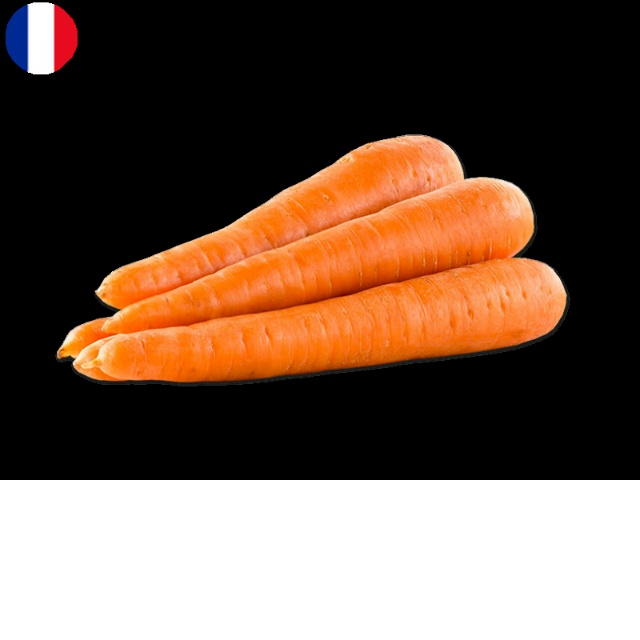ca_rot: (103, 177, 536, 333), (95, 135, 465, 308), (96, 258, 565, 380)
